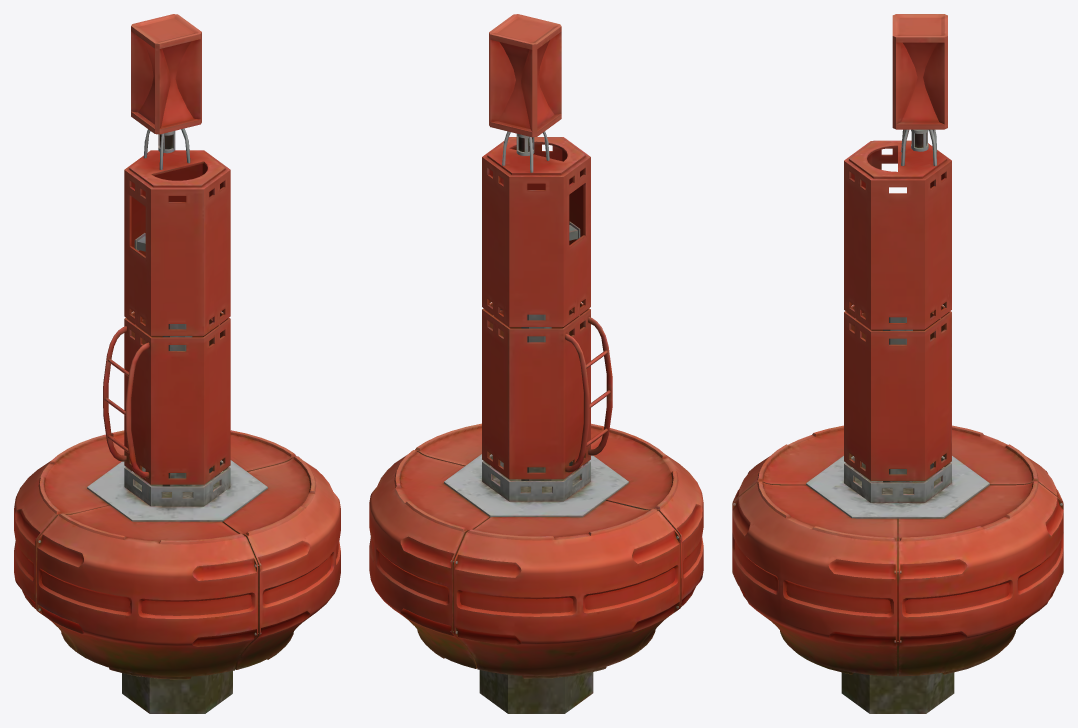
File: marker.glb
3 views of the same model, side by side, from view 1: azimuth 30°, elevation 25°; view 2: azimuth 150°, elevation 25°; view 3: azimuth 270°, elevation 25° (orthographic). The views are drawn at different scales.
Parts seen in each view (by area): view 1: lateral_sea_marker; view 2: lateral_sea_marker; view 3: lateral_sea_marker.
Boxes of the visible parts, x1,y1,x2,y2 form: lateral_sea_marker: [14, 14, 340, 713]; lateral_sea_marker: [369, 14, 703, 713]; lateral_sea_marker: [732, 14, 1063, 713].
Bounding box in the file's own units: 3 × 6.84 × 3.
Materials: 1 (1 with a texture image).
